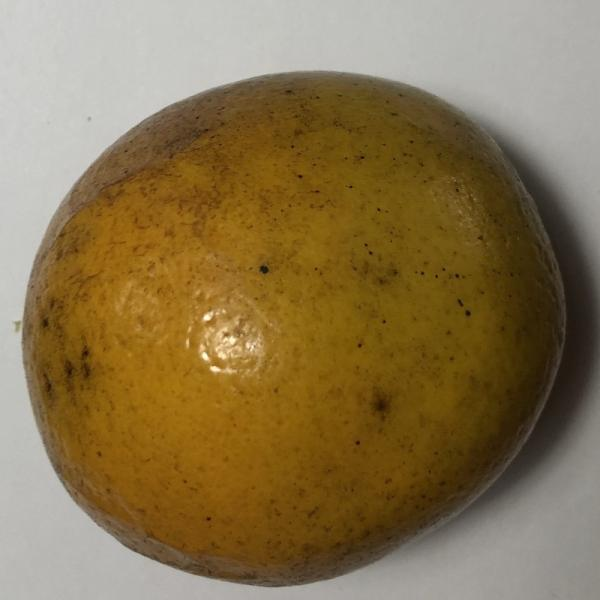Machas negras: (0, 43, 582, 589)
